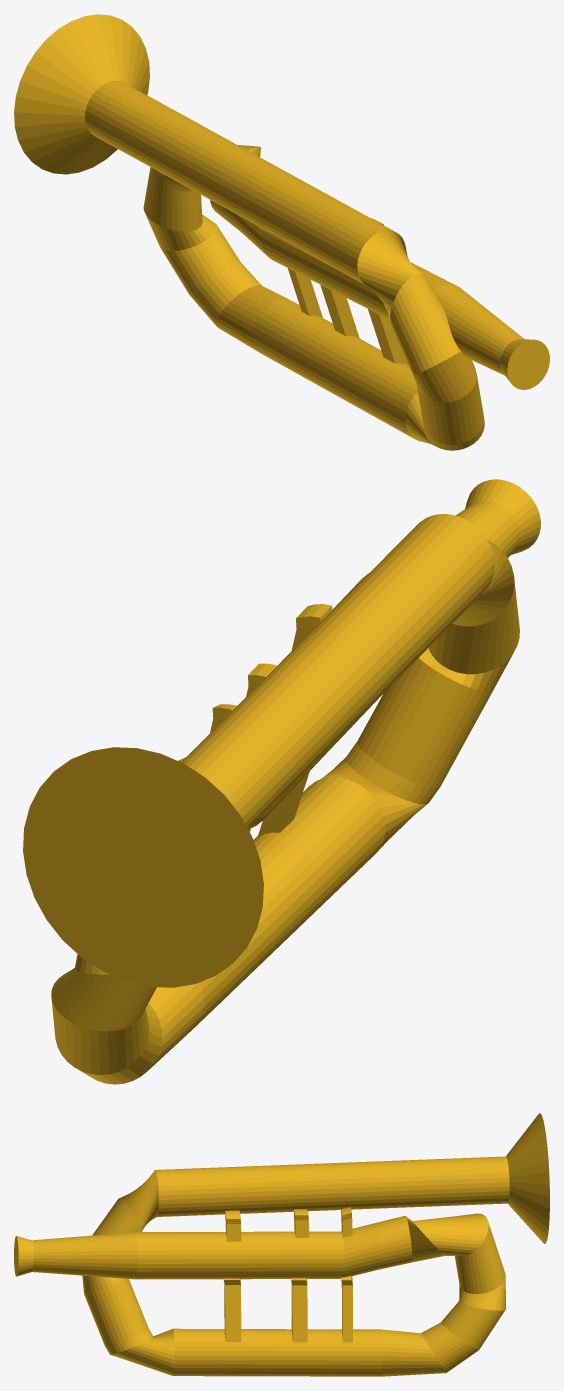
The model's file is Trompette.fbx.
The picture shows the model from 3 angles, top to bottom: view 1: azimuth 30°, elevation 25°; view 2: azimuth 150°, elevation 25°; view 3: azimuth 270°, elevation 25°; orthographic projection. The views are drawn at different scales.
Parts seen in each view (by area): view 1: Cylinder; view 2: Cylinder; view 3: Cylinder.
Boxes of the visible parts, left/top/right/bottom form: Cylinder: left=14, top=14, right=549, bottom=450; Cylinder: left=23, top=479, right=540, bottom=1084; Cylinder: left=14, top=1113, right=549, bottom=1376.
Size of the model in its own units: 123 by 159 by 351.
